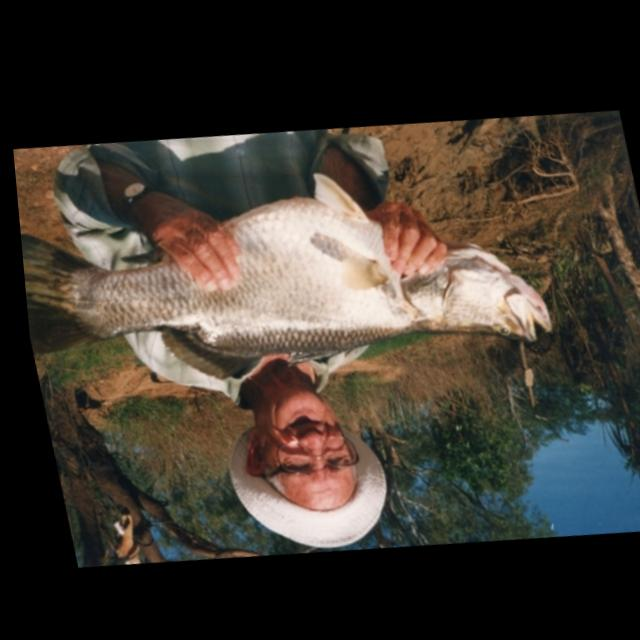Seabass: (11, 129, 570, 425)
